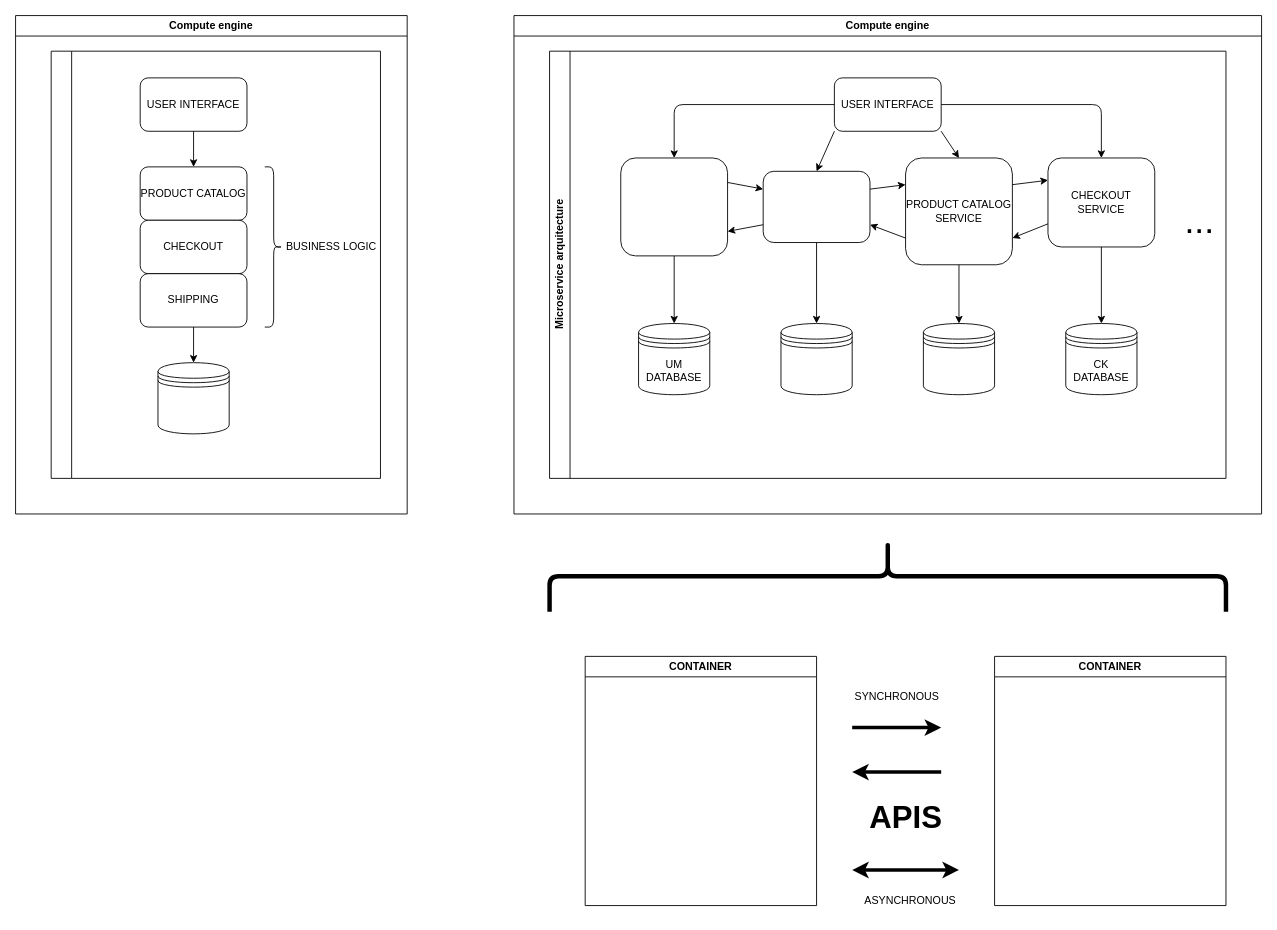
Image size: 1277x930. Some labels were removed from this diagram. The box of each missing label's shape, as (x1, y1, x2, y2) in pixels:
COMMENT SECTION SERVICE: (762, 170, 870, 243)
CS DATABASE: (780, 323, 852, 395)
DATABASE: (157, 362, 229, 434)
MICROSERVICE COMMUNICATIONS: (547, 538, 1228, 614)
Monolith arquitecture: (50, 50, 380, 478)
PC DATABASE: (922, 323, 995, 395)
USER MANAGEMENT SERVICE: (620, 157, 728, 256)
